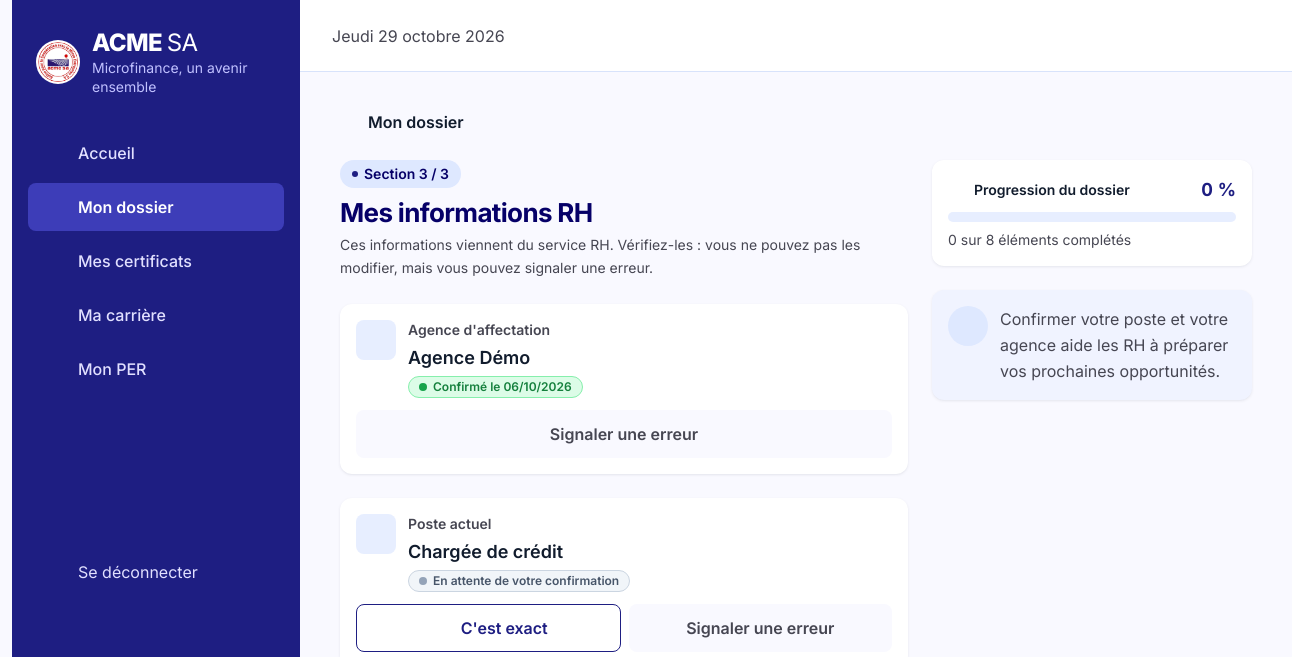
US-203 — Mes informations RH (section 3 / 3) › CA-02 : « C’est exact » confirme l’information
Click the button "C'est exact" below "Chargée de crédit": {"x": 488, "y": 628} [356, 604, 620, 652]
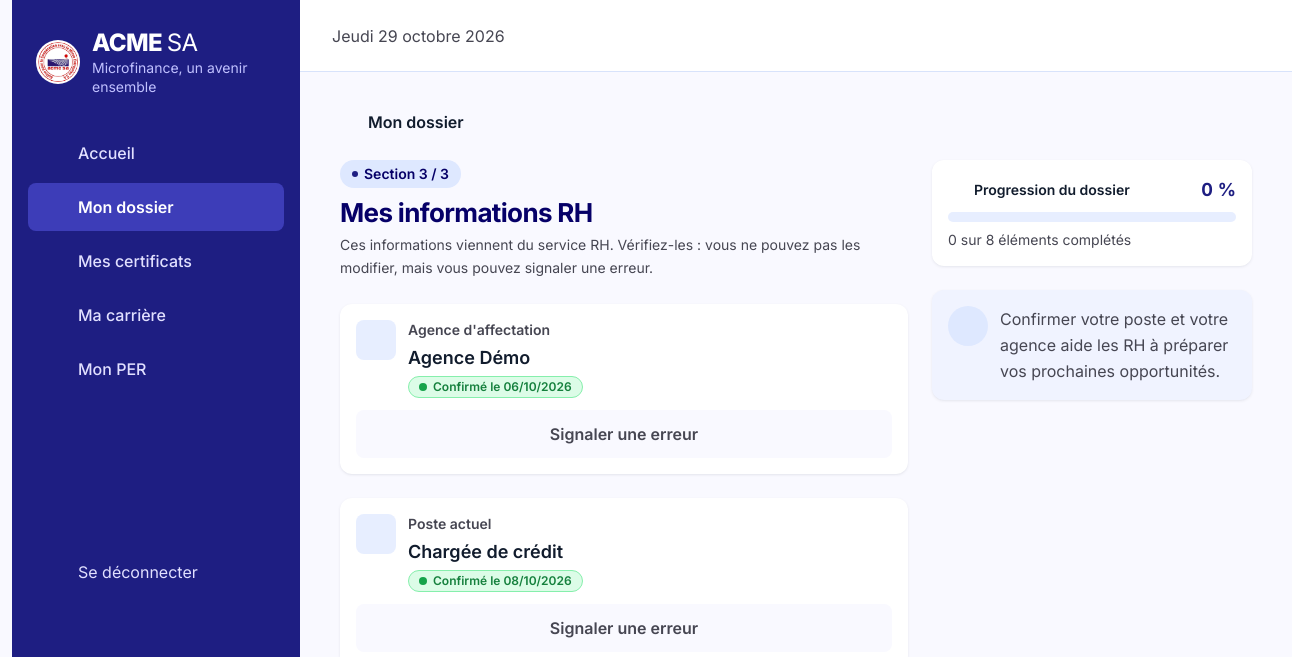
Expected: the text "Confirmé le 08/10/2026" is shown, [408, 570, 583, 592]
